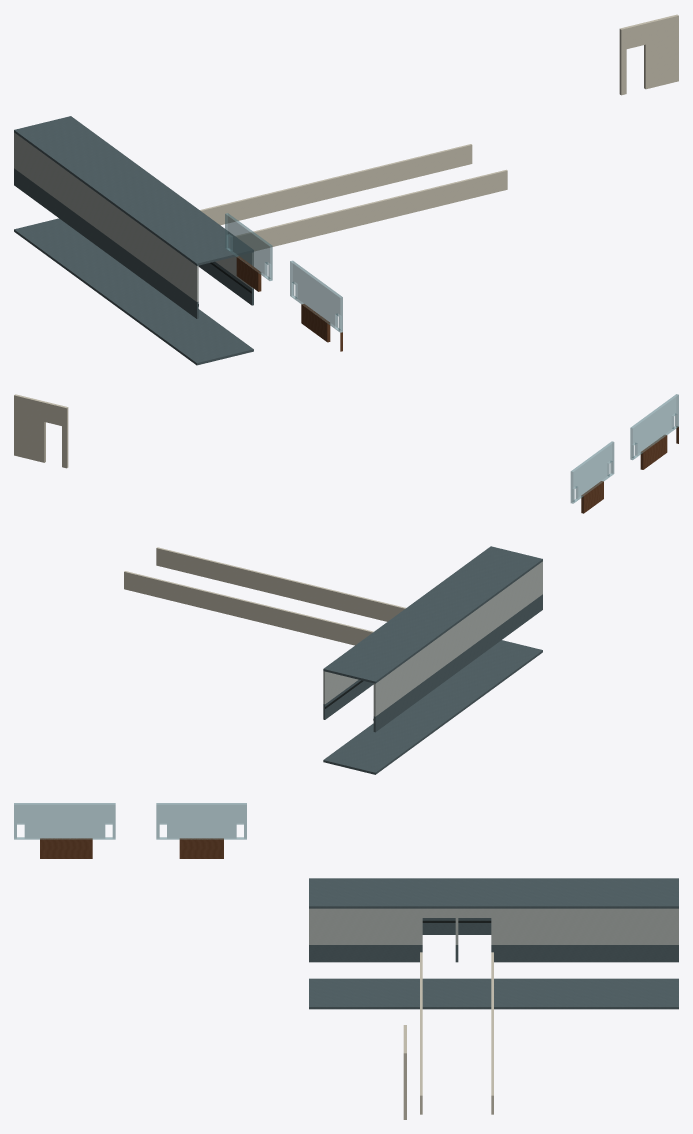
The model's file is D04_BOUNDED_PHYSICAL_CUTS_r004.glb.
3 views of the same model, one above another, from view 1: azimuth 30°, elevation 25°; view 2: azimuth 150°, elevation 25°; view 3: azimuth 270°, elevation 25° (orthographic). The views are drawn at different scales.
Parts seen in each view (by area): view 1: D04PC_Successor_HOME_BATCH_007_ASTRAEA_staff_bluegrey_paint, D04PC_Successor_HOME_BATCH_174_ASTRAEA_staff_white_paint, D04PC_Successor_D04SA_ServiceLaneScreen_0, D04PC_Successor_D04SA_ServiceLaneScreen_2, D04PC_Successor_D04HC3_east_End_0, D04PC_Successor_D04H928_GardenGlass, D04PC_Successor_D04H952_GardenGlass, D04PC_Successor_D04H928_GardenDado, D04PC_Successor_D04H952_GardenDado; view 2: D04PC_Successor_HOME_BATCH_007_ASTRAEA_staff_bluegrey_paint, D04PC_Successor_HOME_BATCH_174_ASTRAEA_staff_white_paint, D04PC_Successor_D04SA_ServiceLaneScreen_2, D04PC_Successor_D04SA_ServiceLaneScreen_0, D04PC_Successor_D04HC3_east_End_0, D04PC_Successor_D04H928_GardenGlass, D04PC_Successor_D04H952_GardenGlass, D04PC_Successor_D04H928_GardenDado; view 3: D04PC_Successor_HOME_BATCH_007_ASTRAEA_staff_bluegrey_paint, D04PC_Successor_HOME_BATCH_174_ASTRAEA_staff_white_paint, D04PC_Successor_D04H928_GardenGlass, D04PC_Successor_D04H952_GardenGlass, D04PC_Successor_D04H928_GardenDado, D04PC_Successor_D04H952_GardenDado, D04PC_Successor_D04SA_ServiceLaneScreen_0, D04PC_Successor_D04SA_ServiceLaneScreen_2.
Boxes of the visible parts, left/top/right/bottom form: D04PC_Successor_HOME_BATCH_007_ASTRAEA_staff_bluegrey_paint: left=14, top=116, right=253, bottom=365; D04PC_Successor_HOME_BATCH_174_ASTRAEA_staff_white_paint: left=14, top=132, right=253, bottom=301; D04PC_Successor_D04SA_ServiceLaneScreen_0: left=200, top=144, right=472, bottom=225; D04PC_Successor_D04SA_ServiceLaneScreen_2: left=235, top=169, right=507, bottom=251; D04PC_Successor_D04HC3_east_End_0: left=619, top=14, right=678, bottom=95; D04PC_Successor_D04H928_GardenGlass: left=290, top=260, right=342, bottom=332; D04PC_Successor_D04H952_GardenGlass: left=225, top=213, right=272, bottom=280; D04PC_Successor_D04H928_GardenDado: left=301, top=304, right=342, bottom=351; D04PC_Successor_D04H952_GardenDado: left=236, top=256, right=261, bottom=291; D04PC_Successor_HOME_BATCH_007_ASTRAEA_staff_bluegrey_paint: left=323, top=546, right=542, bottom=774; D04PC_Successor_HOME_BATCH_174_ASTRAEA_staff_white_paint: left=323, top=561, right=542, bottom=716; D04PC_Successor_D04SA_ServiceLaneScreen_2: left=156, top=547, right=405, bottom=621; D04PC_Successor_D04SA_ServiceLaneScreen_0: left=124, top=571, right=373, bottom=645; D04PC_Successor_D04HC3_east_End_0: left=14, top=394, right=68, bottom=468; D04PC_Successor_D04H928_GardenGlass: left=630, top=394, right=678, bottom=459; D04PC_Successor_D04H952_GardenGlass: left=570, top=441, right=614, bottom=503; D04PC_Successor_D04H928_GardenDado: left=640, top=426, right=678, bottom=469; D04PC_Successor_HOME_BATCH_007_ASTRAEA_staff_bluegrey_paint: left=309, top=878, right=678, bottom=1009; D04PC_Successor_HOME_BATCH_174_ASTRAEA_staff_white_paint: left=309, top=908, right=678, bottom=944; D04PC_Successor_D04H928_GardenGlass: left=14, top=803, right=115, bottom=839; D04PC_Successor_D04H952_GardenGlass: left=156, top=803, right=246, bottom=839; D04PC_Successor_D04H928_GardenDado: left=40, top=838, right=92, bottom=858; D04PC_Successor_D04H952_GardenDado: left=179, top=838, right=223, bottom=858; D04PC_Successor_D04SA_ServiceLaneScreen_0: left=491, top=952, right=493, bottom=1114; D04PC_Successor_D04SA_ServiceLaneScreen_2: left=420, top=952, right=422, bottom=1114.
Bounding box in the file's own units: 33.55 × 11.26 × 35.95.
Materials: 9 (7 with a texture image).
